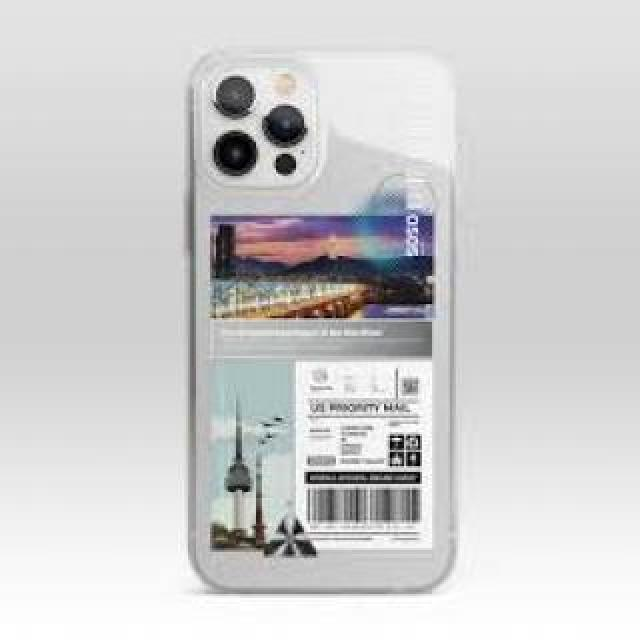smart phone: (162, 28, 476, 610)
